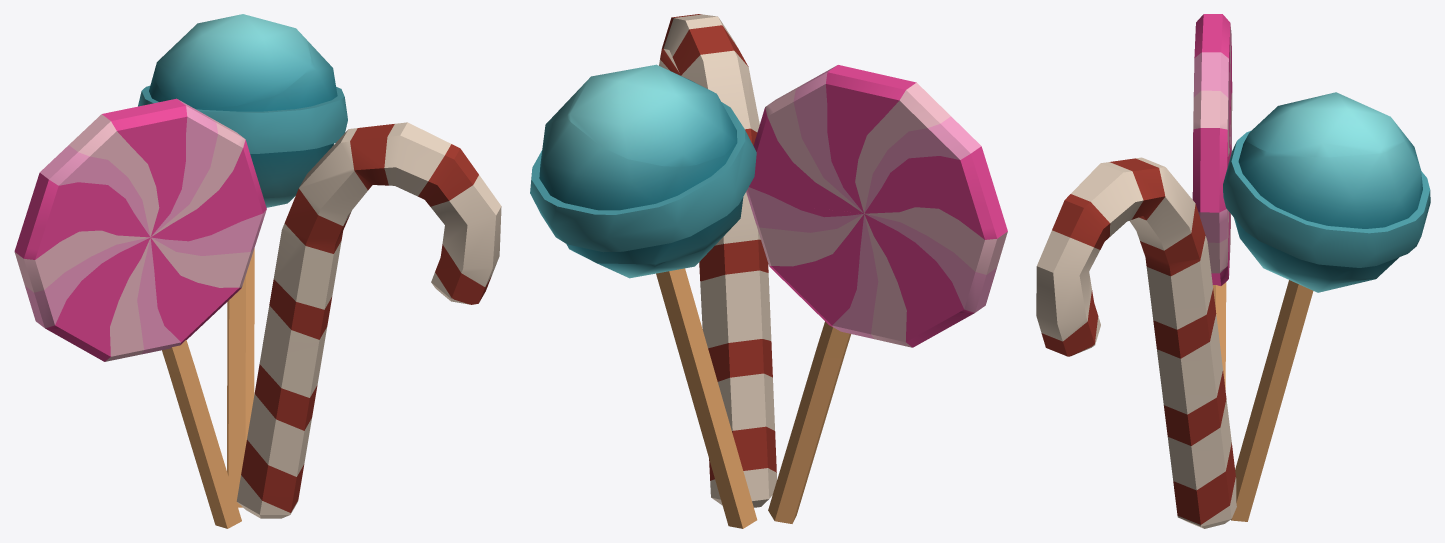
File: Sweets.fbx
The picture shows the model from 3 angles, left to right: view 1: azimuth 30°, elevation 25°; view 2: azimuth 150°, elevation 25°; view 3: azimuth 270°, elevation 25°; orthographic projection. The views are drawn at different scales.
Visible parts, largest first — view 1: Sweets; view 2: Sweets; view 3: Sweets.
Boxes of the visible parts, bbox=[...] form: Sweets: bbox=[14, 14, 501, 528]; Sweets: bbox=[530, 14, 1007, 528]; Sweets: bbox=[1036, 14, 1430, 528].
Bounding box in the file's own units: 1.83 × 1.57 × 1.92.
